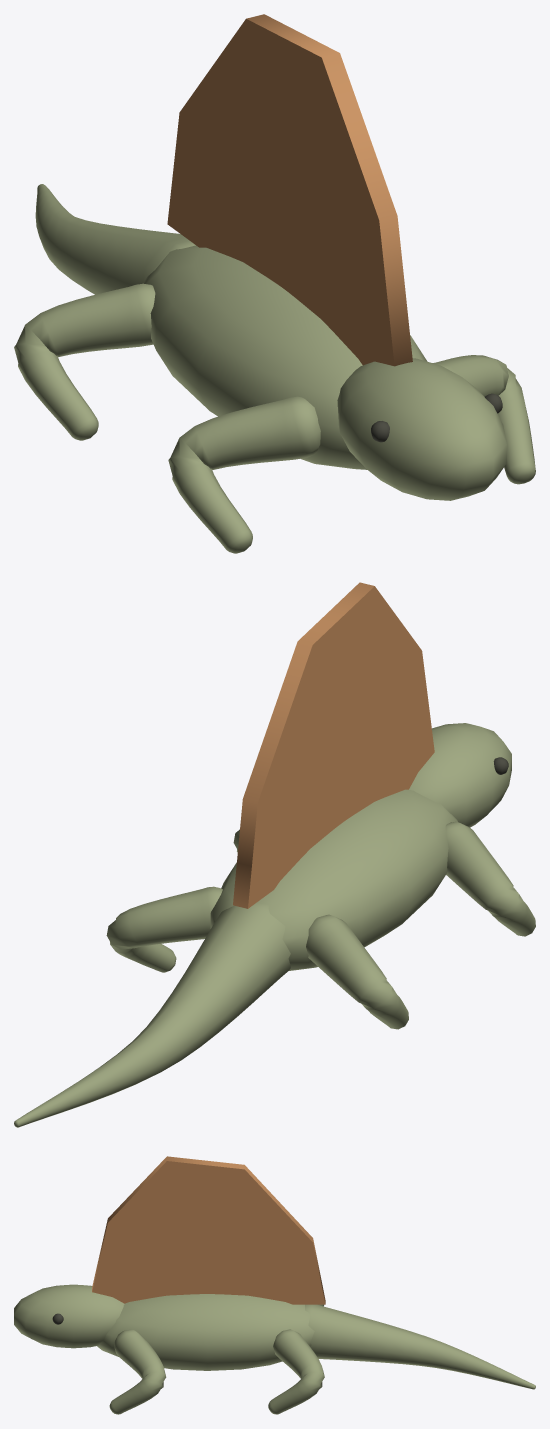
Rendered from dinosaurs-and-prehistoric-life-dimetrodon-f056e35b__4920.glb.
3 views of the same model, one above another, from view 1: azimuth 30°, elevation 25°; view 2: azimuth 150°, elevation 25°; view 3: azimuth 270°, elevation 25° (orthographic). The views are drawn at different scales.
Parts seen in each view (by area): view 1: dimetrodon; view 2: dimetrodon; view 3: dimetrodon.
Boxes of the visible parts, x1=… form: dimetrodon: x1=14, y1=14, x2=535, y2=553; dimetrodon: x1=14, y1=582, x2=535, y2=1127; dimetrodon: x1=14, y1=1156, x2=535, y2=1414.
Size of the model in its own units: 1.26 by 1.48 by 3.2.
